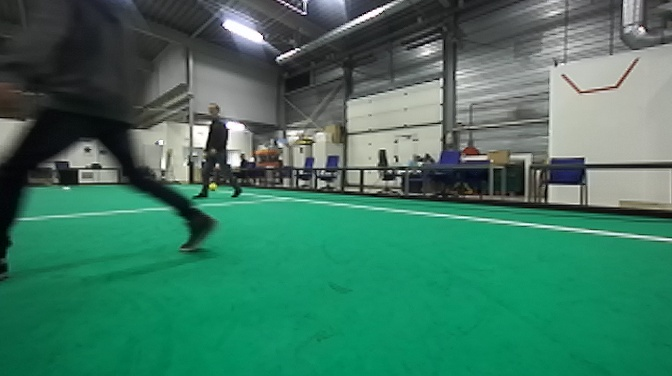ball: (207, 180, 218, 192)
human: (47, 2, 200, 266), (201, 102, 245, 205)
